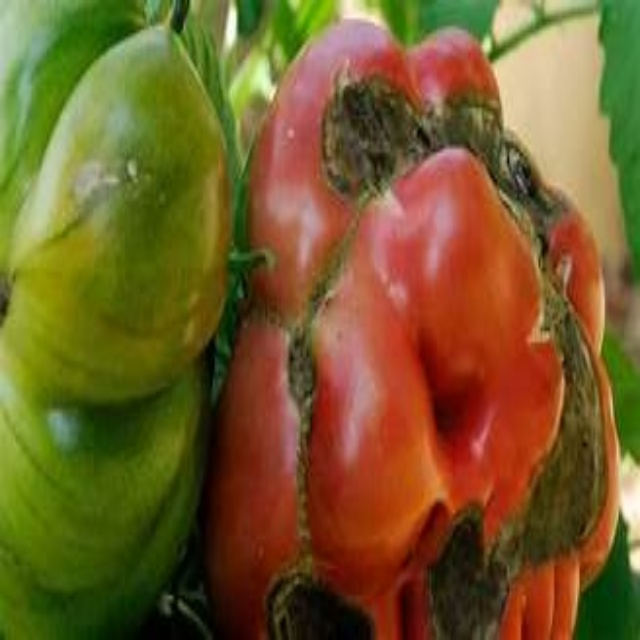tomato: (229, 28, 609, 631), (8, 24, 209, 623)
